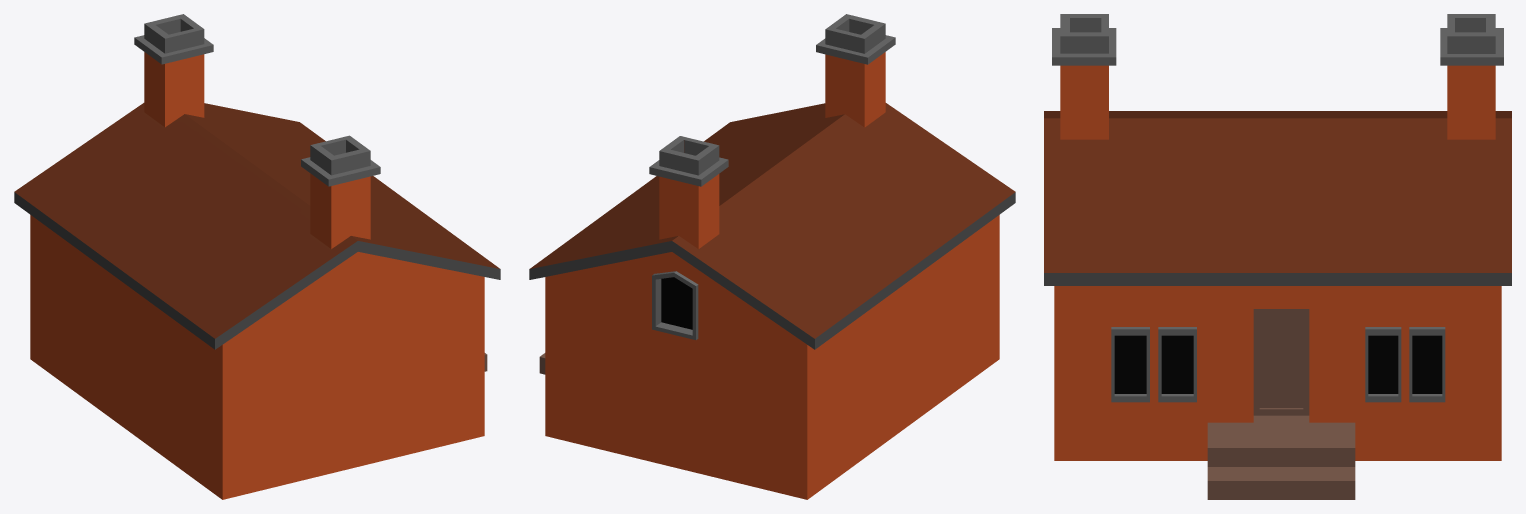
The model's file is cabinBlender.obj.
3 views of the same model, side by side, from view 1: azimuth 30°, elevation 25°; view 2: azimuth 150°, elevation 25°; view 3: azimuth 270°, elevation 25° (orthographic). The views are drawn at different scales.
Visible parts, largest first — view 1: cabin; view 2: cabin; view 3: cabin.
Part boxes in pixels (x1=…): cabin: x1=14, y1=14, x2=500, y2=499; cabin: x1=529, y1=14, x2=1015, y2=499; cabin: x1=1044, y1=14, x2=1511, y2=499.
Size of the model in its own units: 9.07 by 7.86 by 9.22.
1 material, 1 textured.
